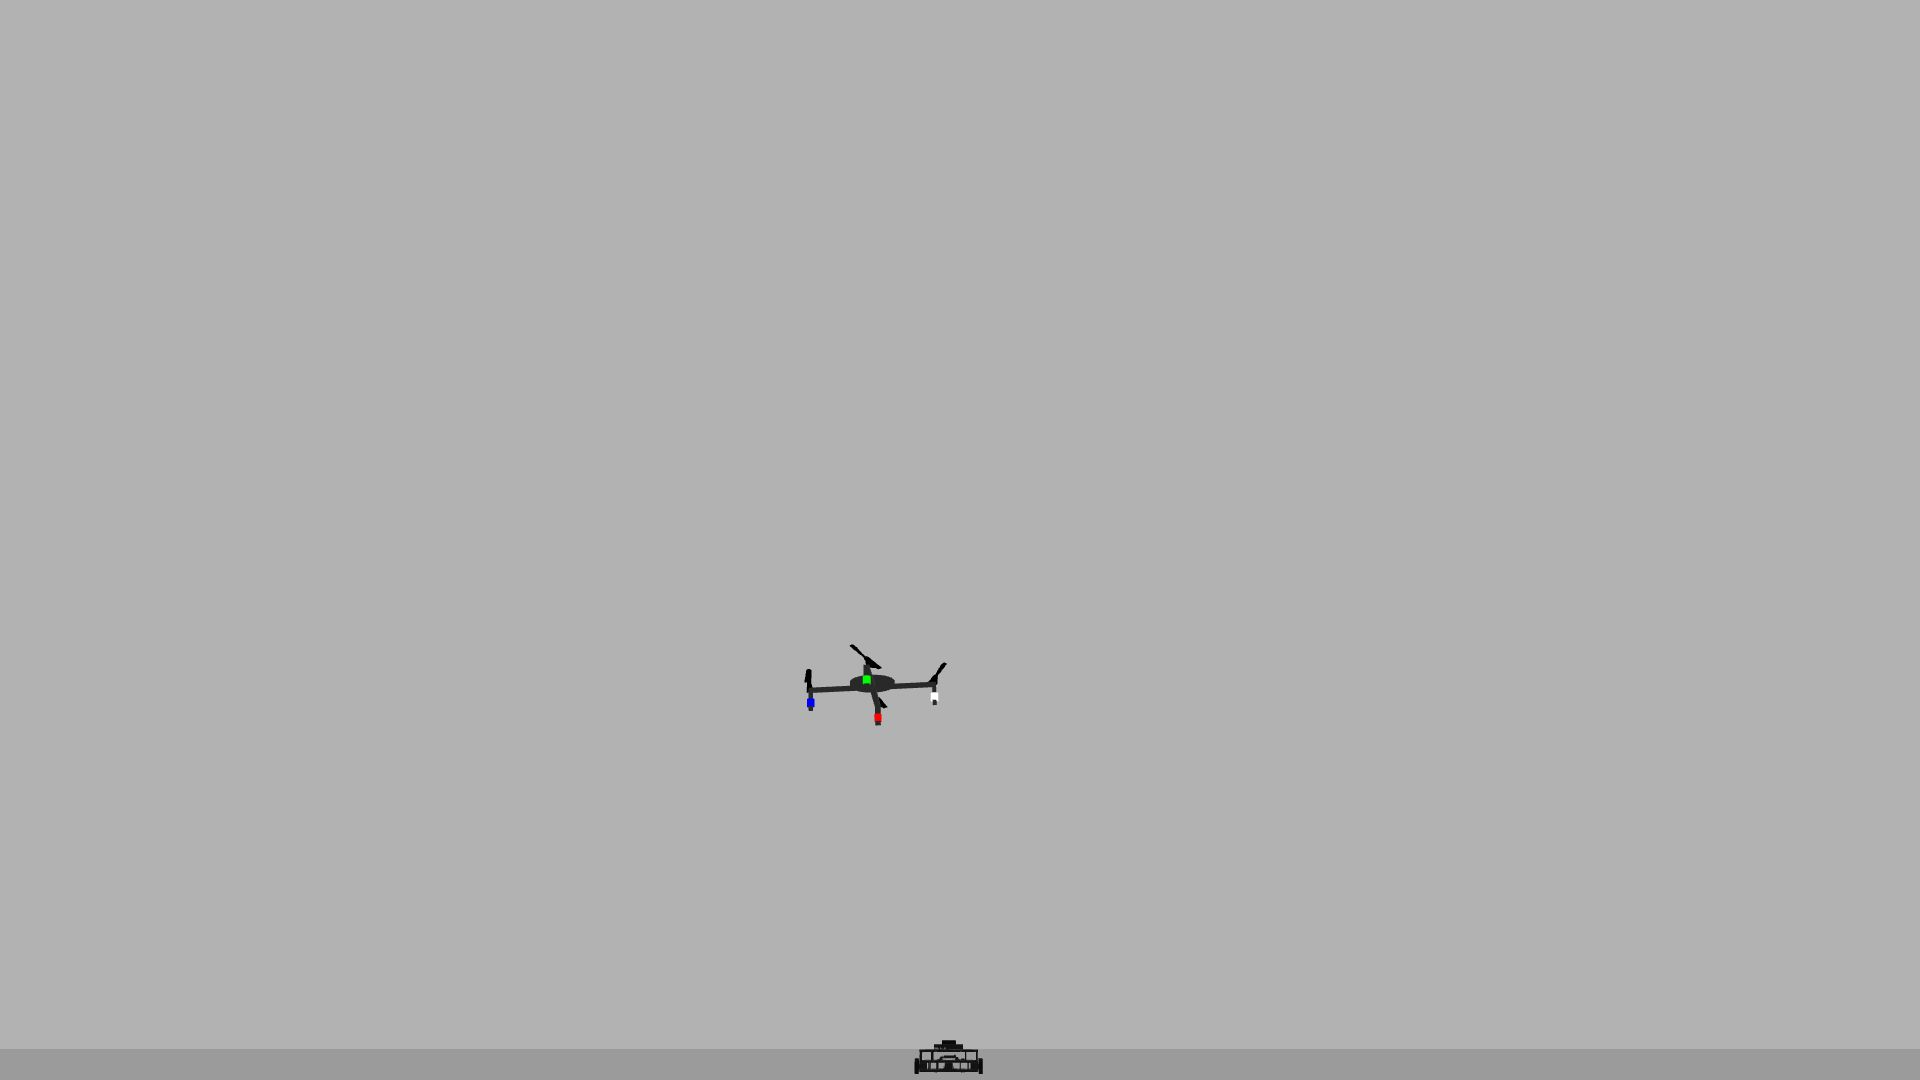drone: (778, 621, 975, 745)
